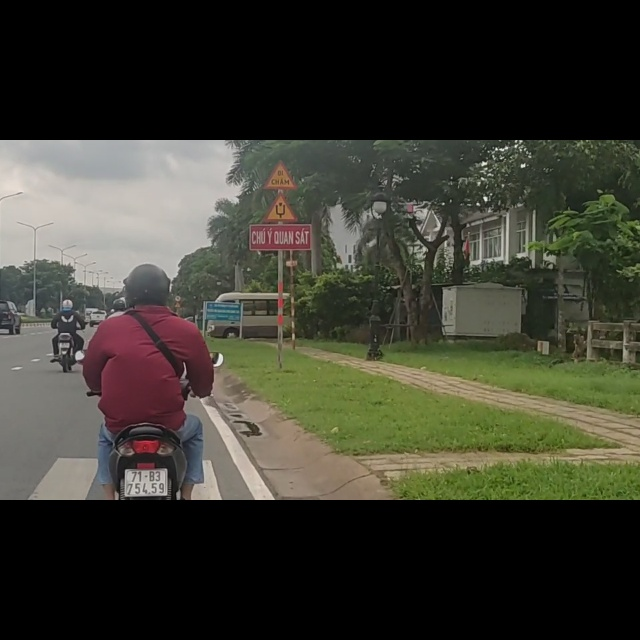bien_nguy_hiem: (263, 91, 299, 145), (264, 36, 297, 88)
